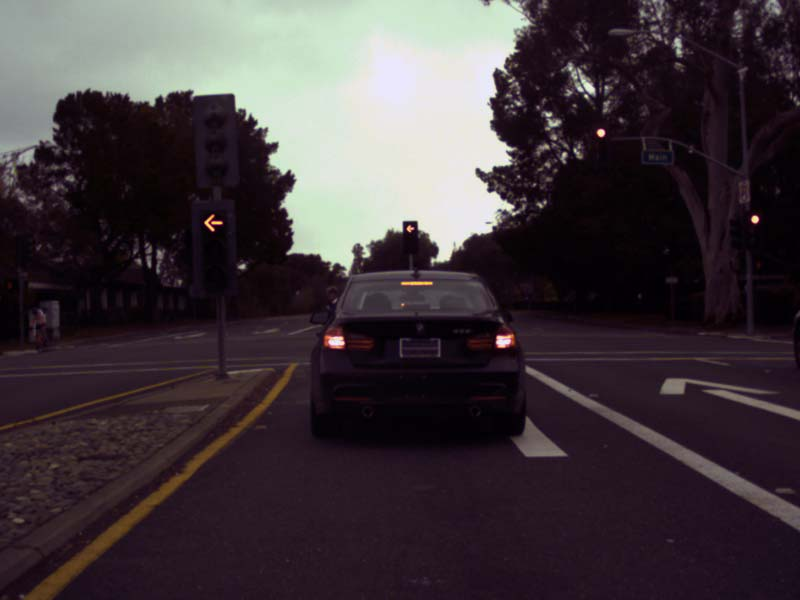Red: (189, 199, 237, 294), (592, 125, 611, 166), (743, 211, 762, 245), (402, 220, 418, 253)
